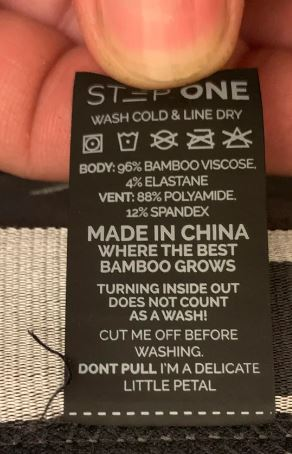ER_flat_dry: (185, 126, 217, 153)
ER_no_bleach: (219, 124, 254, 153)
ER_no_dry_clean: (148, 127, 180, 153)
ER_tumble_dry_low_heat: (79, 132, 105, 156)
ER_wash: (113, 127, 142, 155)
